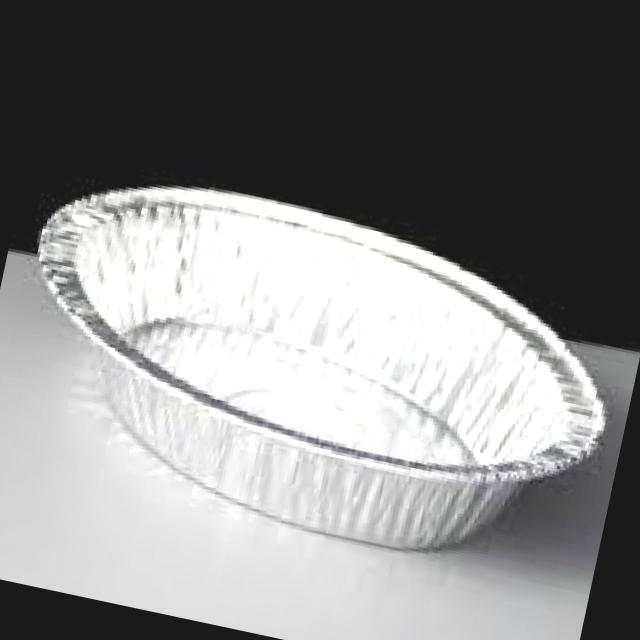kim_loai: (34, 186, 607, 554)
